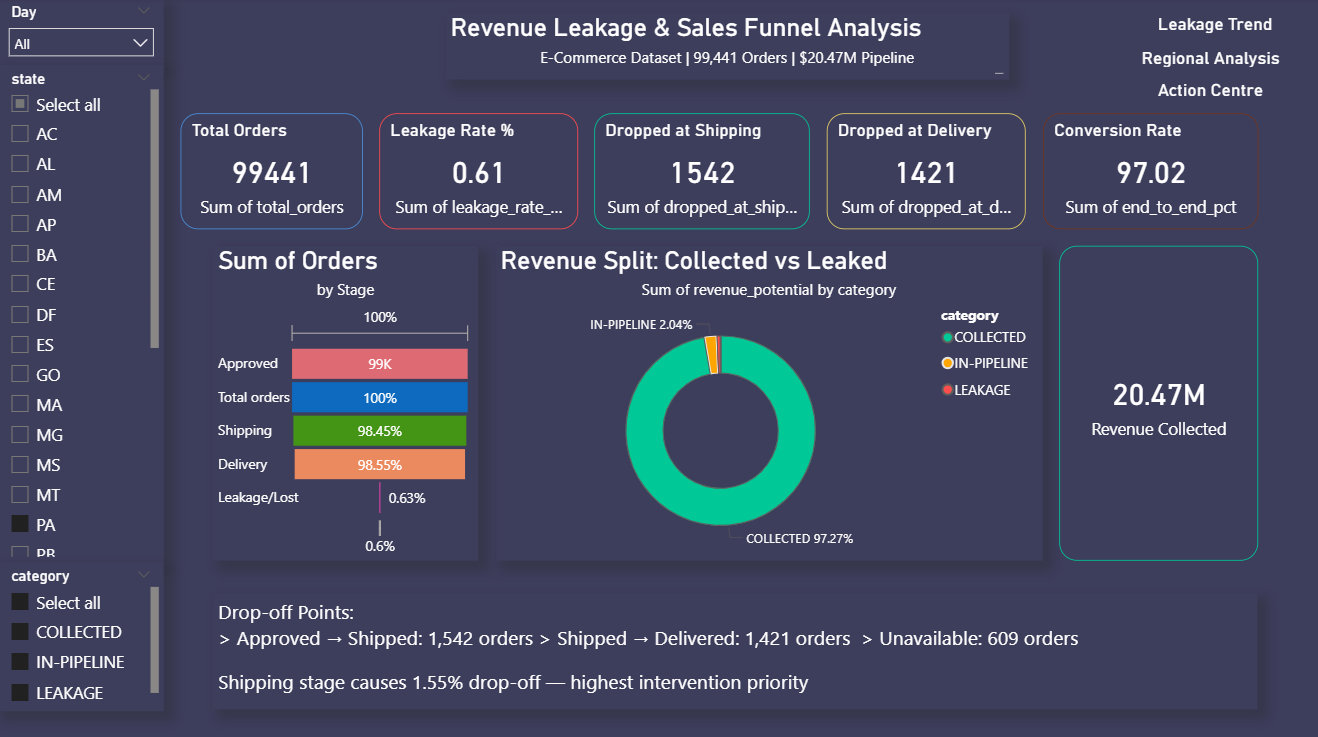

Layout of this report page (visuals, bound fields, positions):
{"tool":"powerbi","page":{"name":"Executive Summary","canvas":[1280,720],"ordinal":0},"visuals":[{"type":"card","title":"Conversion Rate","fields":{"Values":["Sum(funnel_stages_202604131959.end_to_end_pct)"]},"box":[1008,112,208,112],"z":0},{"type":"card","title":"Total Orders","fields":{"Values":["Sum(funnel_stages_202604131959.total_orders)"]},"box":[176,112,176,112],"z":1000},{"type":"card","title":"Leakage Rate %","fields":{"Values":["Sum(funnel_stages_202604131959.leakage_rate_pct)"]},"box":[368,112,192,112],"z":2000},{"type":"card","title":"Dropped at Shipping","fields":{"Values":["Sum(funnel_stages_202604131959.dropped_at_shipping)"]},"box":[576,112,208,112],"z":3000},{"type":"card","title":"Dropped at Delivery","fields":{"Values":["Sum(funnel_stages_202604131959.dropped_at_delivery)"]},"box":[800,112,192,112],"z":4000},{"type":"textbox","box":[208,576,1008,112],"z":5000},{"type":"donutChart","title":"Revenue Split: Collected vs Leaked","fields":{"Category":["revenue_summary_totals_202604132000.category"],"Y":["Sum(revenue_summary_totals_202604132000.revenue_potential)"]},"box":[480,240,528,304],"z":6000},{"type":"textbox","title":"Revenue Leakage & Sales Funnel Analysis","box":[432,16,544,48],"z":7000},{"type":"actionButton","title":"Regional Analysis","box":[1104,48,160,32],"z":8000},{"type":"actionButton","title":"Leakage Trend","box":[1120,16,128,32],"z":9000},{"type":"card","fields":{"Values":["Sum(revenue_summary_totals_202604132000.revenue_collected)"]},"box":[1024,240,192,304],"z":10000},{"type":"funnel","fields":{"Y":["Sum(funnel_visual.Orders)"],"Category":["funnel_visual.Stage"]},"box":[208,240,256,304],"z":11000},{"type":"slicer","fields":{"Values":["orders_payments_202604132001.month.Variation.Date Hierarchy.Day"]},"box":[0,64,160,64],"z":12000},{"type":"slicer","fields":{"Values":["orders_customers_payments_202604132146.state"]},"box":[0,128,160,448],"z":13000},{"type":"slicer","fields":{"Values":["revenue_summary_totals_202604132000.category"]},"box":[0,576,160,144],"z":14000},{"type":"actionButton","title":"Action Centre","box":[1120,80,112,16],"z":15000}]}

Visuals, with their boxes in screenshot pixels (x1, y1, x2, y2), scaled from the page's 1280x720 canvas onto the 1318x737 screenshot:
"Conversion Rate" card: 1038,115,1252,229
"Total Orders" card: 181,115,362,229
"Leakage Rate %" card: 379,115,577,229
"Dropped at Shipping" card: 593,115,807,229
"Dropped at Delivery" card: 824,115,1021,229
textbox: 214,590,1252,704
"Revenue Split: Collected vs Leaked" donutChart: 494,246,1038,557
"Revenue Leakage & Sales Funnel Analysis" textbox: 445,16,1005,66
"Regional Analysis" actionButton: 1137,49,1302,82
"Leakage Trend" actionButton: 1153,16,1285,49
card - Sum(revenue_summary_totals_202604132000.revenue_collected): 1054,246,1252,557
funnel - Sum(funnel_visual.Orders) x funnel_visual.Stage: 214,246,478,557
slicer - orders_payments_202604132001.month.Variation.Date Hierarchy.Day: 0,66,165,131
slicer - orders_customers_payments_202604132146.state: 0,131,165,590
slicer - revenue_summary_totals_202604132000.category: 0,590,165,736
"Action Centre" actionButton: 1153,82,1269,98
